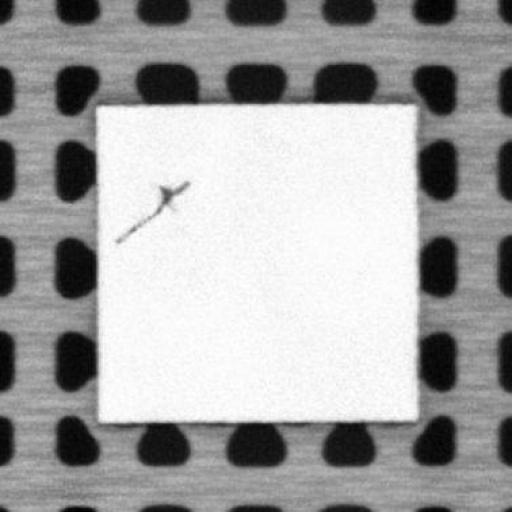DIE_INK: (115, 181, 187, 239)
